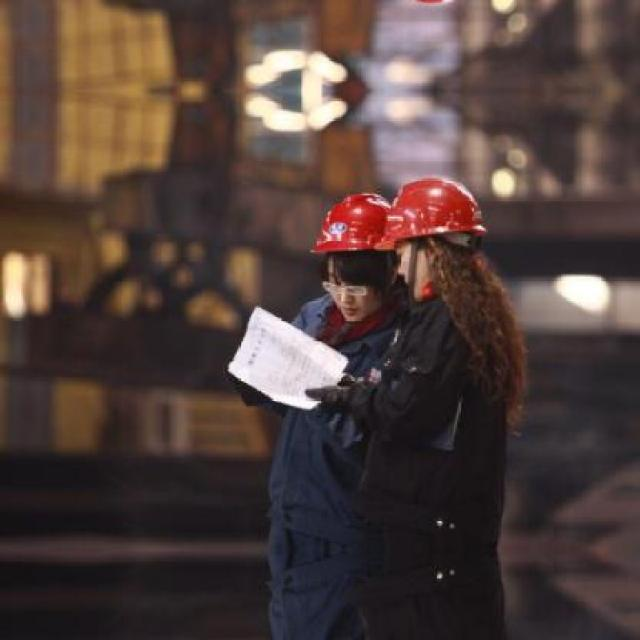helmet: (382, 170, 488, 304), (308, 186, 406, 319)
